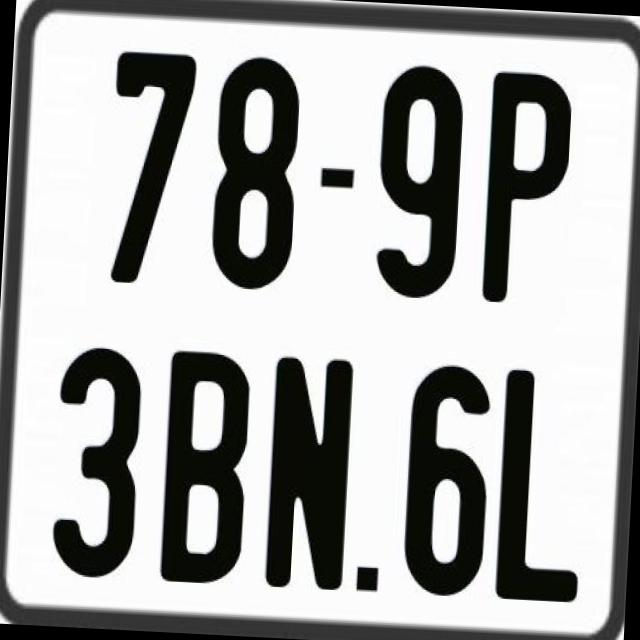3: (49, 345, 148, 581)
6: (401, 358, 491, 594)
7: (106, 48, 197, 284)
8: (205, 51, 298, 292)
9: (370, 61, 466, 304)
B: (158, 347, 249, 591)
L: (491, 366, 591, 604)
N: (263, 354, 357, 597)
P: (482, 69, 573, 312)
